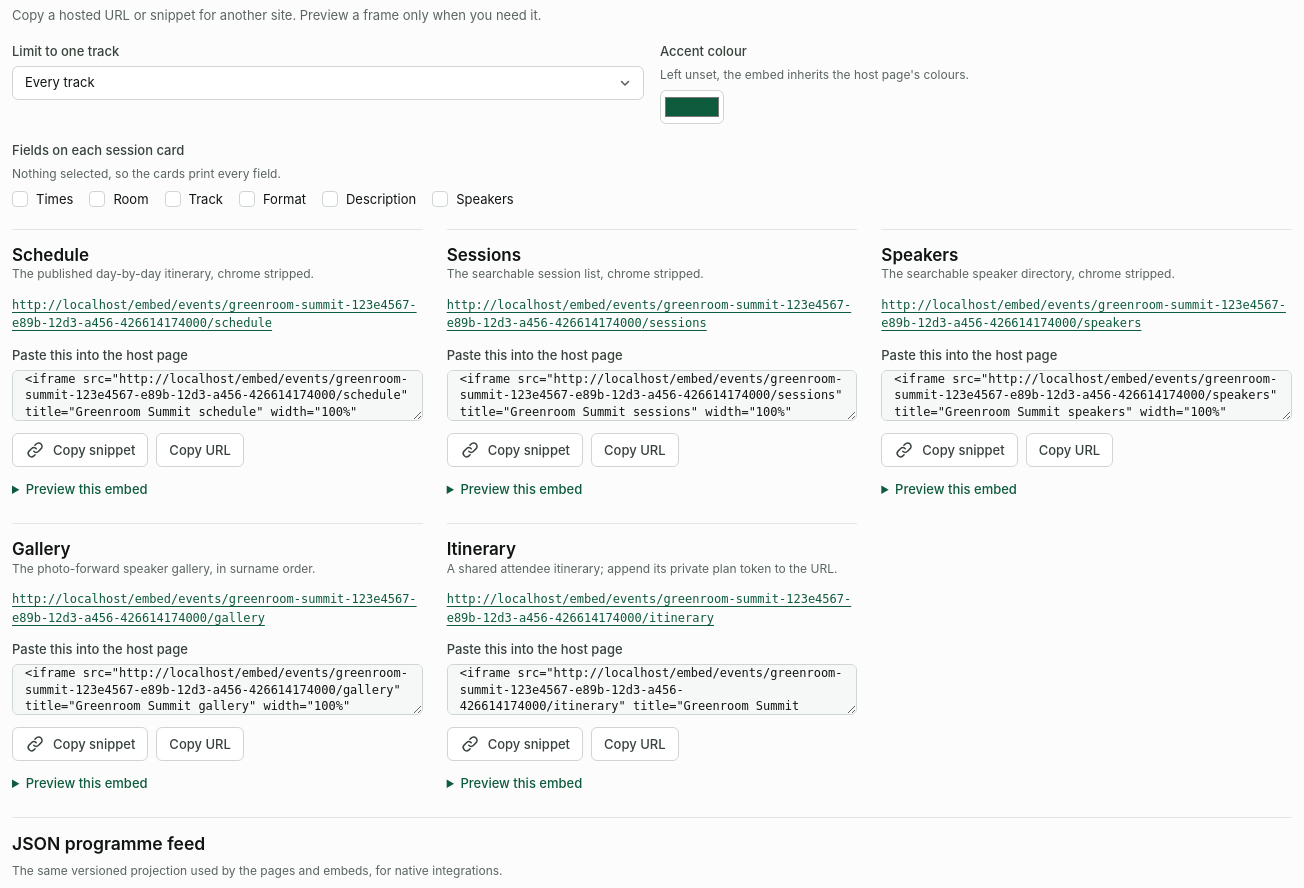
Scenario: PublishingWorkspace › announces a copy inside the panel that owns the button, not in the card at the top
(page scrolled)
Step 1. Click the button with aria-label "Copy snippet for the Schedule embed" → (80, 450), box [12,433,148,467]
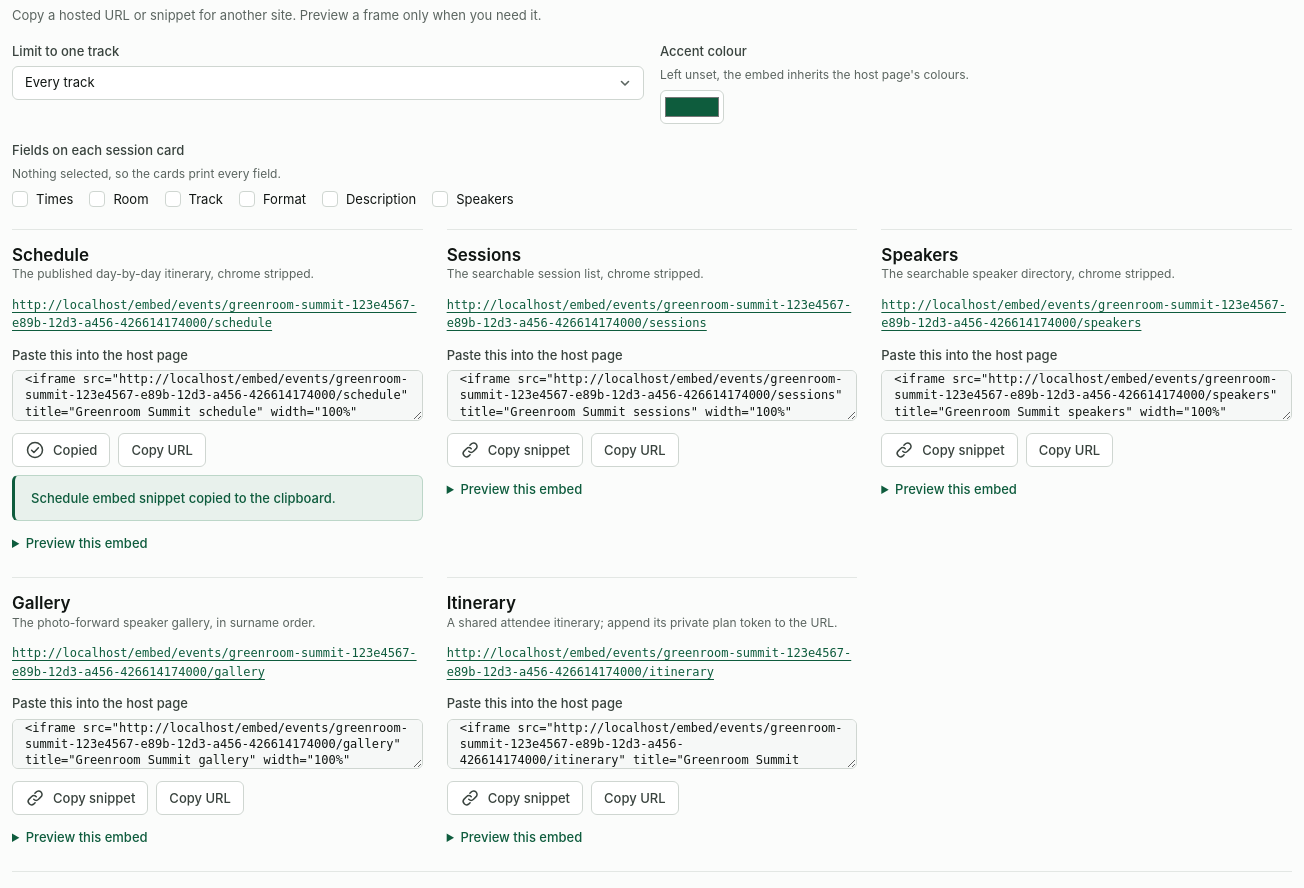
Expected: the text "copied" is not shown
Now the button named "Copy snippet for the Schedule embed" reads "Copied", box [12,433,110,467]
